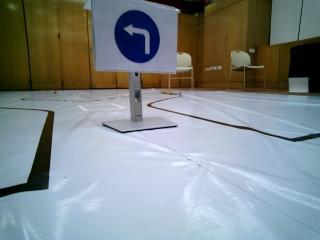left: (102, 4, 175, 69)
